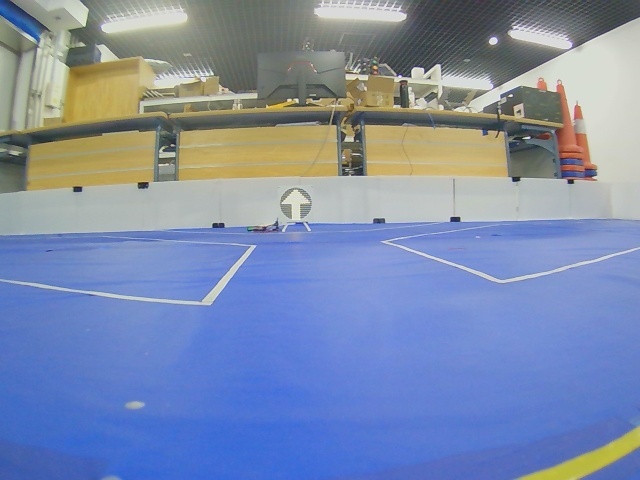straight_yellow: (280, 187, 312, 222)
